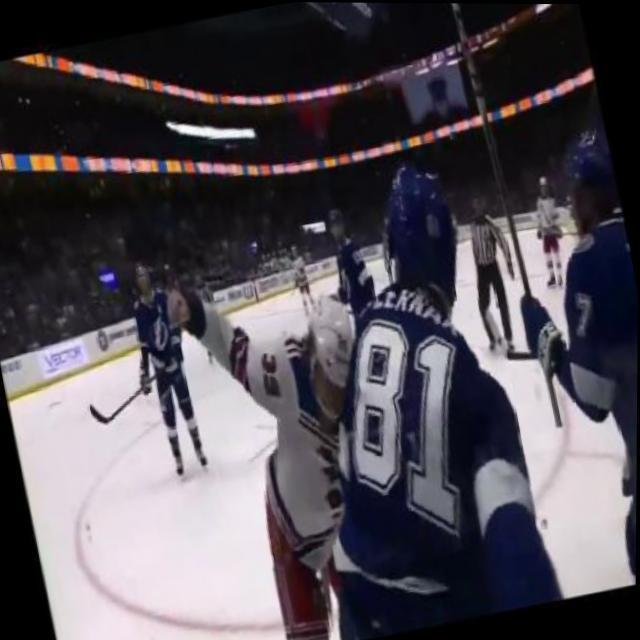fight: (139, 143, 563, 640)
